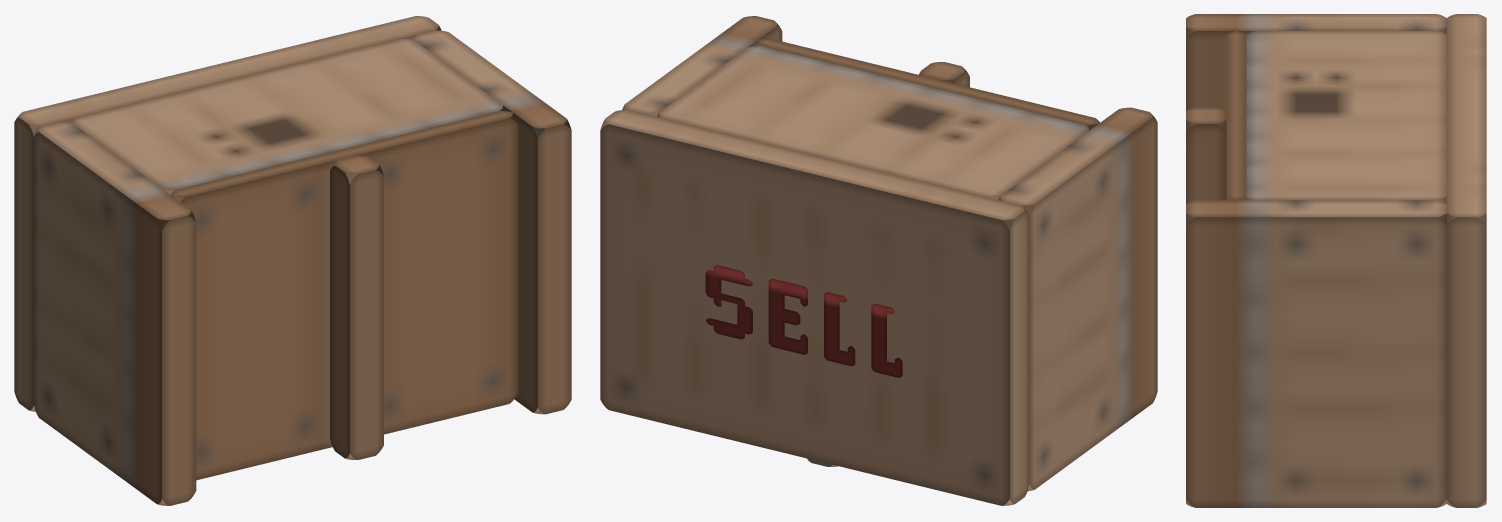
Rendered from Sellbox.fbx.
3 views of the same model, side by side, from view 1: azimuth 30°, elevation 25°; view 2: azimuth 150°, elevation 25°; view 3: azimuth 270°, elevation 25° (orthographic).
Visible parts, largest first — view 1: Sellbox, SellBoxOpen; view 2: SellBoxOpen, Sellbox; view 3: Sellbox, SellBoxOpen.
Boxes of the visible parts, x1,y1,x2,y2 form: Sellbox: (34, 30, 571, 505); SellBoxOpen: (14, 16, 441, 411); SellBoxOpen: (600, 110, 1029, 505); Sellbox: (622, 16, 1157, 491); Sellbox: (1186, 14, 1446, 507); SellBoxOpen: (1446, 14, 1486, 507).
Size of the model in its own units: 150 by 106 by 94.09.
Materials: 1 (1 with a texture image).
